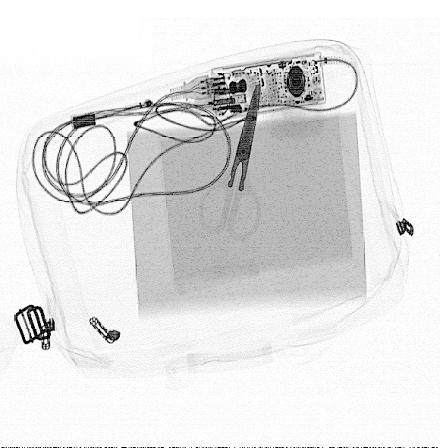Scissors: (196, 82, 261, 243)
